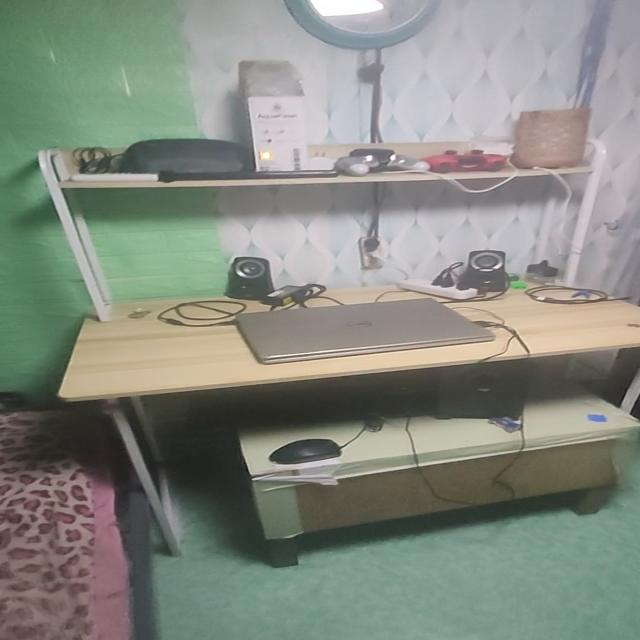table: (58, 264, 640, 556)
